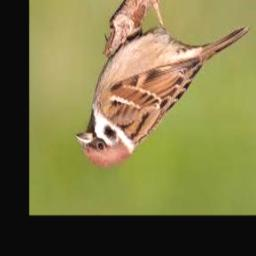Sparrow: (74, 3, 249, 166)
